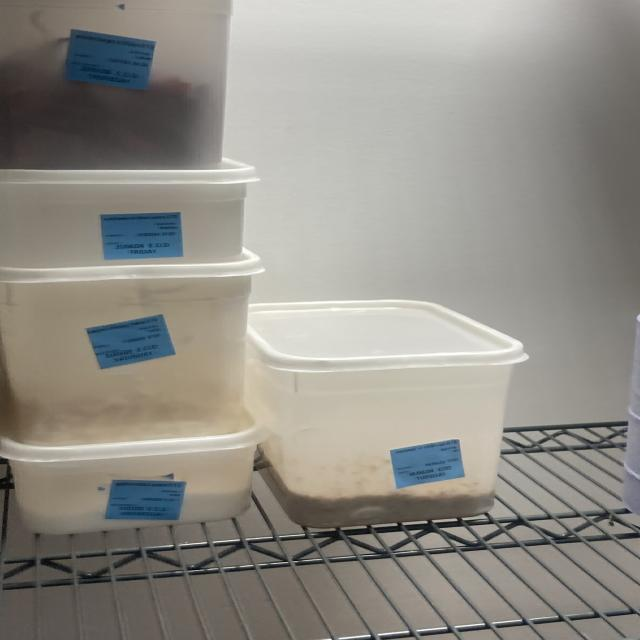product-labels: (61, 30, 158, 91), (84, 312, 178, 371), (99, 211, 187, 260), (389, 438, 465, 492), (104, 479, 186, 521)
